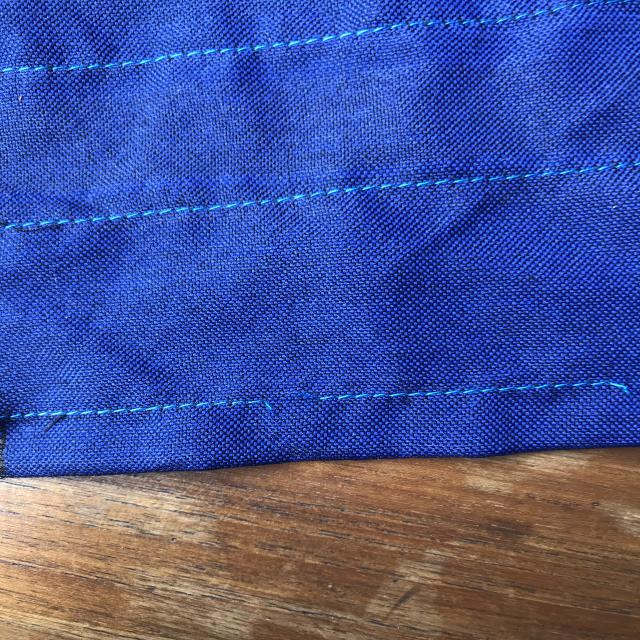broken: (228, 381, 361, 416)
good: (187, 187, 316, 233)
